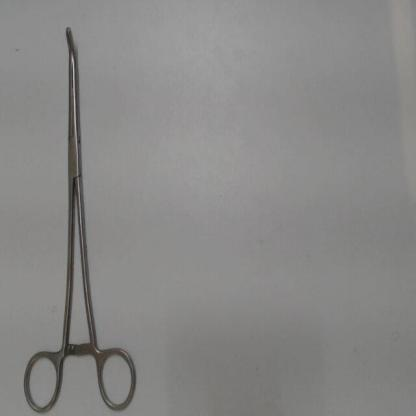Lahey Forceps: (19, 19, 139, 414)
